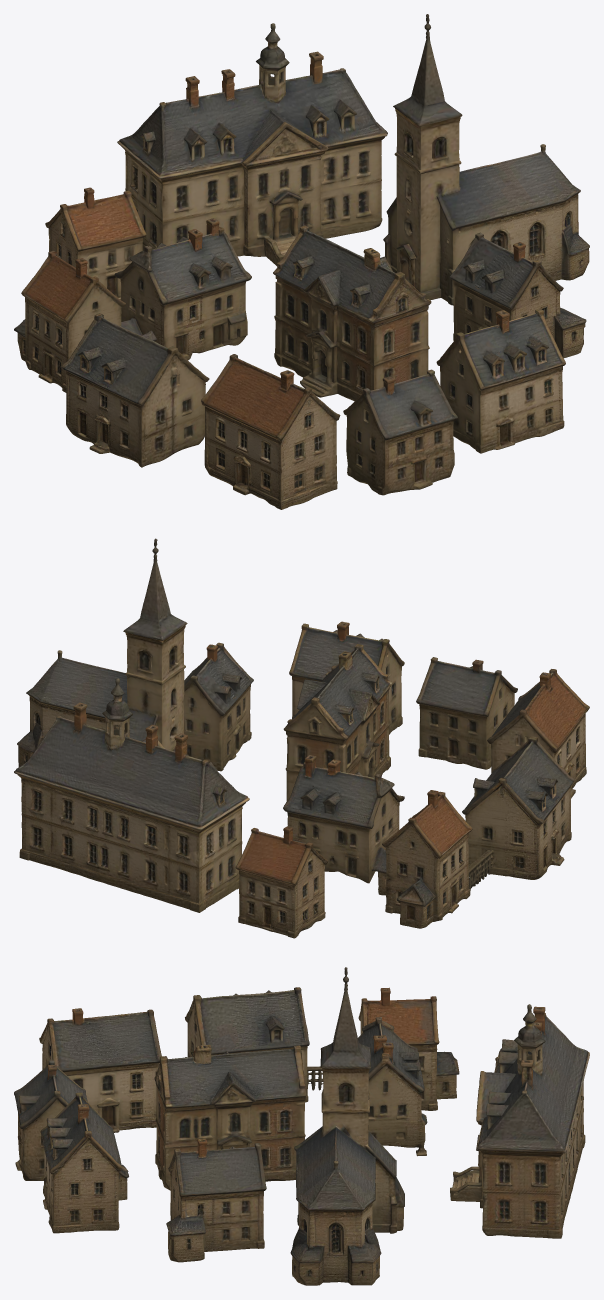
The model's file is Enlightenment Village (Western).fbx.
The picture shows the model from 3 angles, top to bottom: view 1: azimuth 30°, elevation 25°; view 2: azimuth 150°, elevation 25°; view 3: azimuth 270°, elevation 25°; orthographic projection. The views are drawn at different scales.
Visible parts, largest first — view 1: tripo_node_2bb7487c; view 2: tripo_node_2bb7487c; view 3: tripo_node_2bb7487c.
Boxes of the visible parts, bbox=[...] form: tripo_node_2bb7487c: bbox=[14, 14, 589, 509]; tripo_node_2bb7487c: bbox=[14, 538, 589, 938]; tripo_node_2bb7487c: bbox=[14, 967, 589, 1285].
Bounding box in the file's own units: 1 × 0.5414 × 0.9984.
